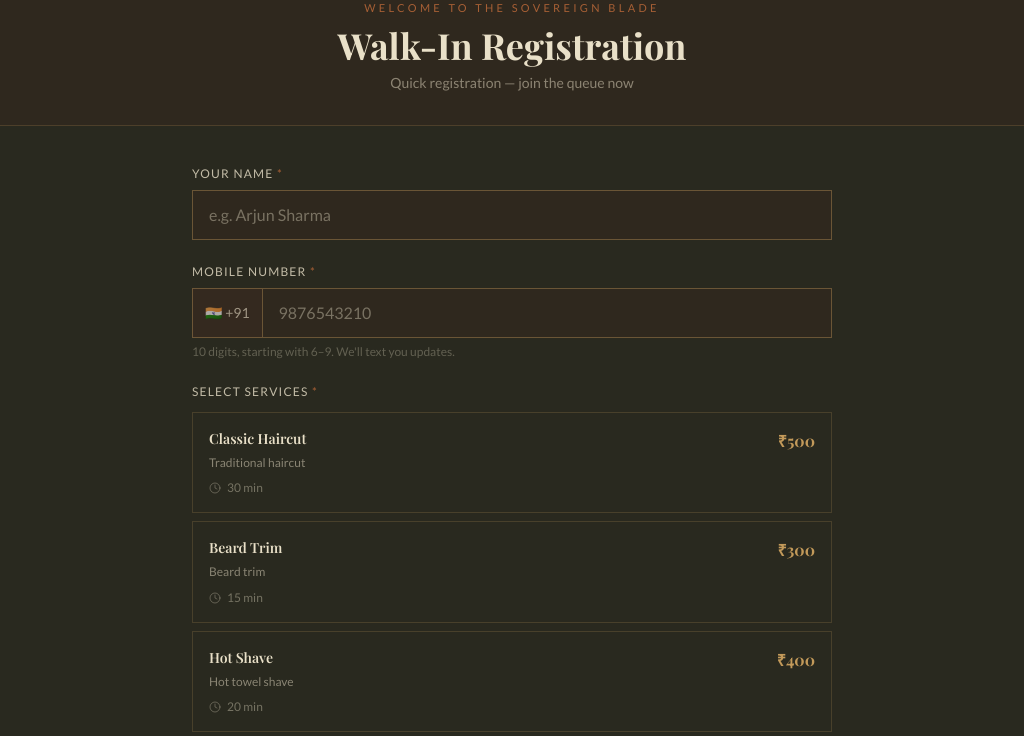
WalkInRegistrationPage › allows selecting services
Check: the text "Classic Haircut" is shown, box [209, 428, 306, 448]
Note: Click first service
What coordinates should you click on to do the following:
click the button "Classic Haircut Traditional haircut 30 min ₹500"
I would click on:
 (258, 438)
Its box is [192, 412, 832, 513].
(page scrolled)
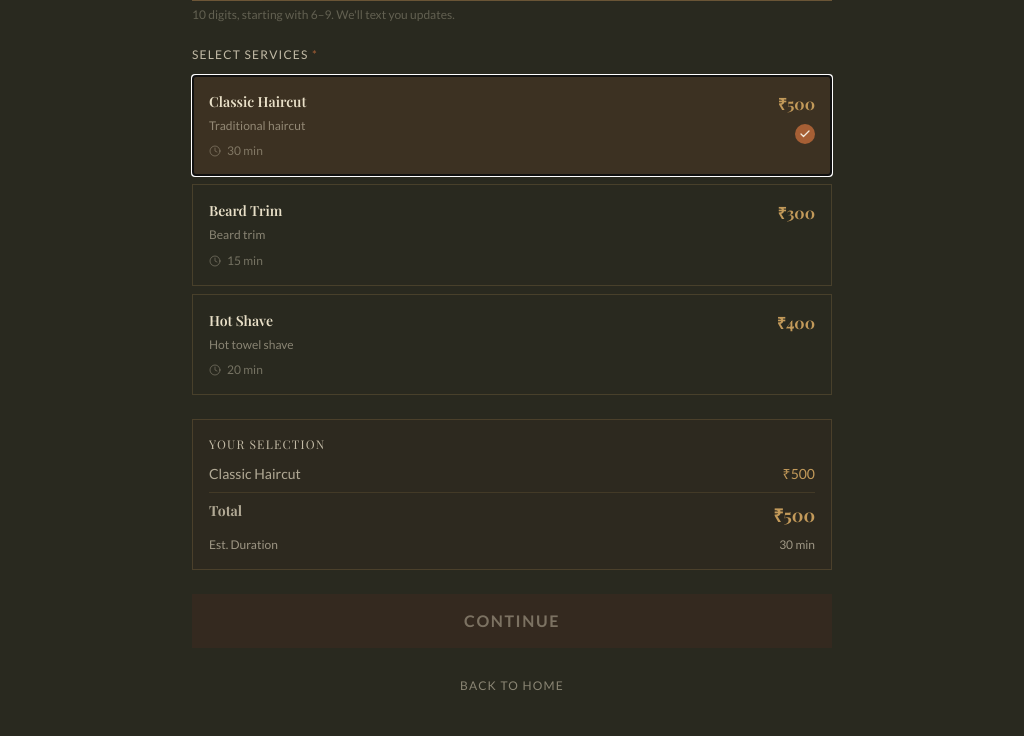
Check: the heading "Your Selection" is shown, box [209, 436, 325, 452]
